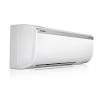ac: (7, 22, 96, 76)
